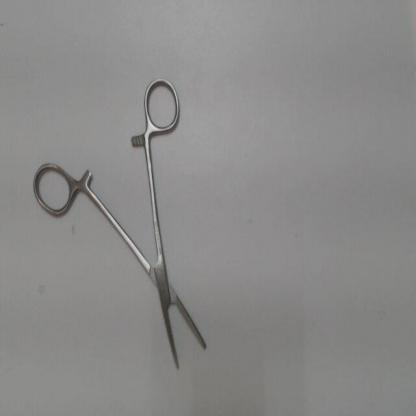Mayo Needle Holder: (28, 72, 216, 380)
